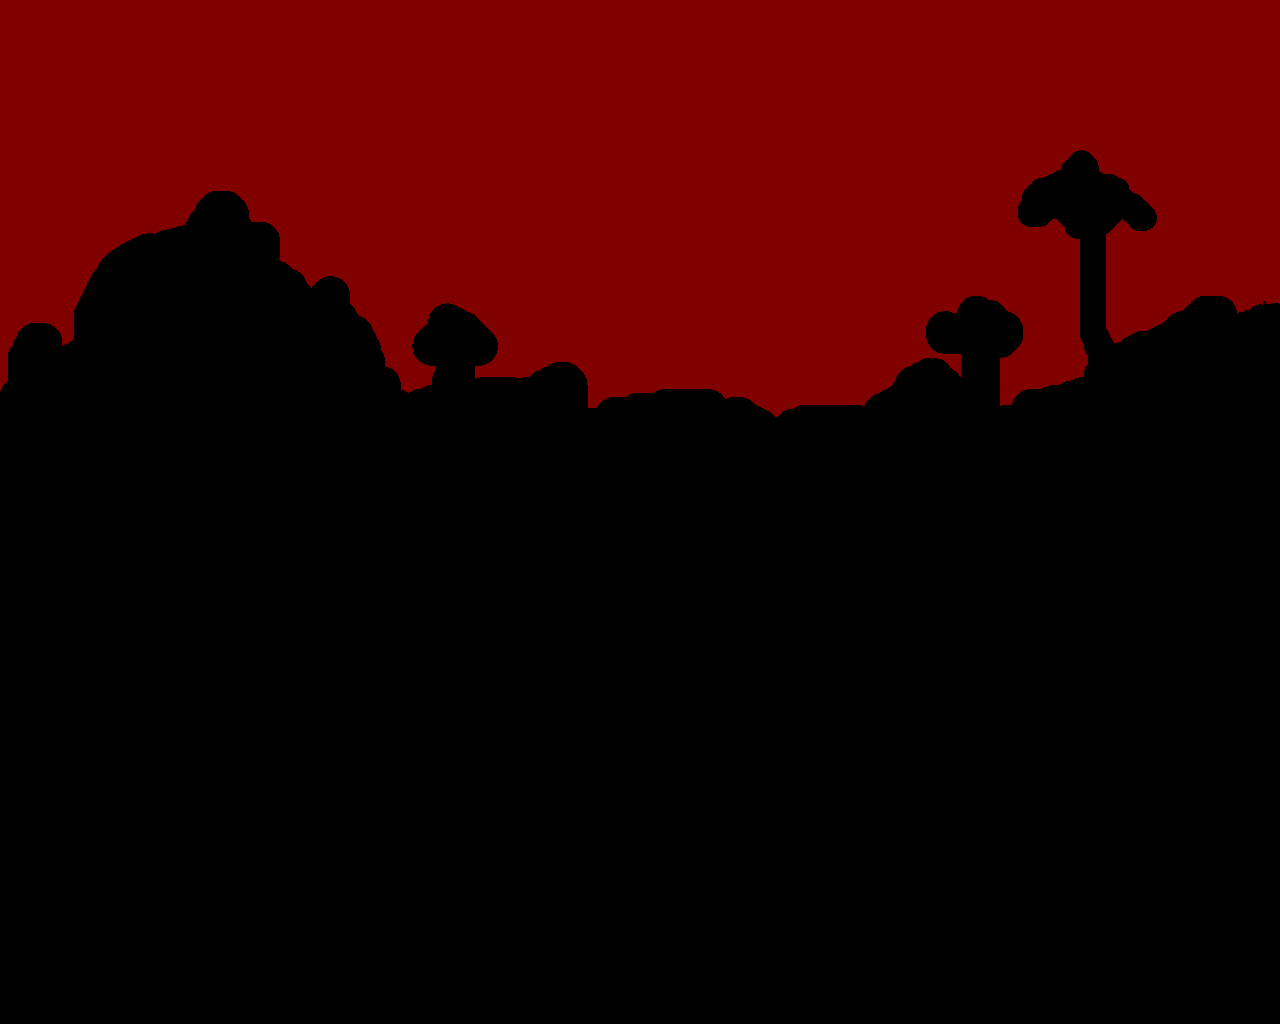Sky: (1, 1, 1279, 417)
